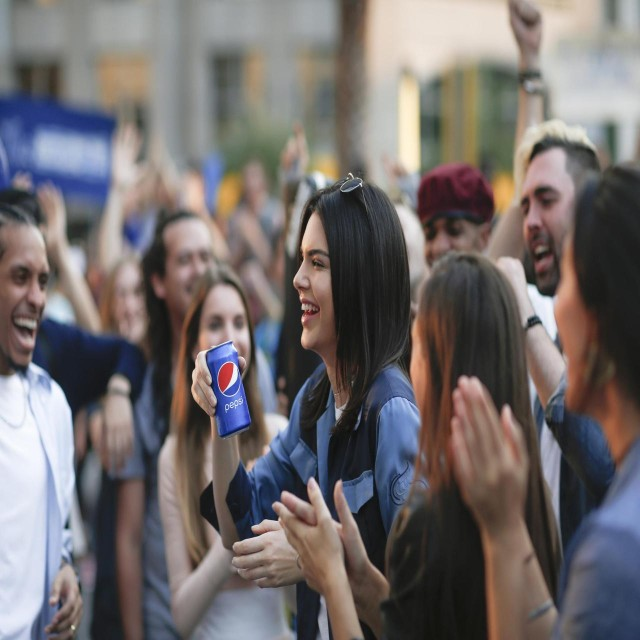pepsi: (216, 356, 243, 406)
